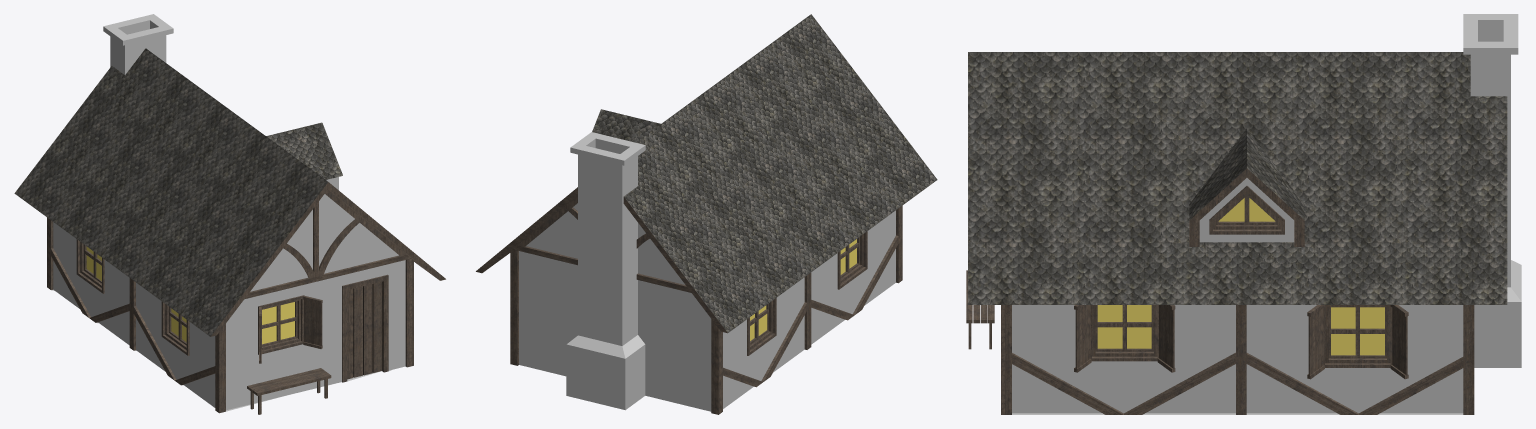
The model's file is medieval house 2.fbx.
3 views of the same model, side by side, from view 1: azimuth 30°, elevation 25°; view 2: azimuth 150°, elevation 25°; view 3: azimuth 270°, elevation 25° (orthographic). The views are drawn at different scales.
Visible parts, largest first — view 1: medieval_house_2_1, Group10, Group3; view 2: medieval_house_2_1; view 3: medieval_house_2_1, Group5, Group6, Group9, Group8, Group10.
Part boxes in pixels (x1=…): medieval_house_2_1: x1=14, y1=14, x2=445, y2=413; Group10: x1=247, y1=368, x2=331, y2=414; Group3: x1=303, y1=296, x2=322, y2=348; medieval_house_2_1: x1=476, y1=14, x2=937, y2=414; medieval_house_2_1: x1=968, y1=14, x2=1521, y2=414; Group5: x1=1307, y1=305, x2=1324, y2=379; Group6: x1=1390, y1=305, x2=1408, y2=379; Group9: x1=1157, y1=305, x2=1175, y2=372; Group8: x1=1074, y1=305, x2=1091, y2=372; Group10: x1=966, y1=270, x2=994, y2=349.
Size of the model in its own units: 4.63 by 4.34 by 6.85.
